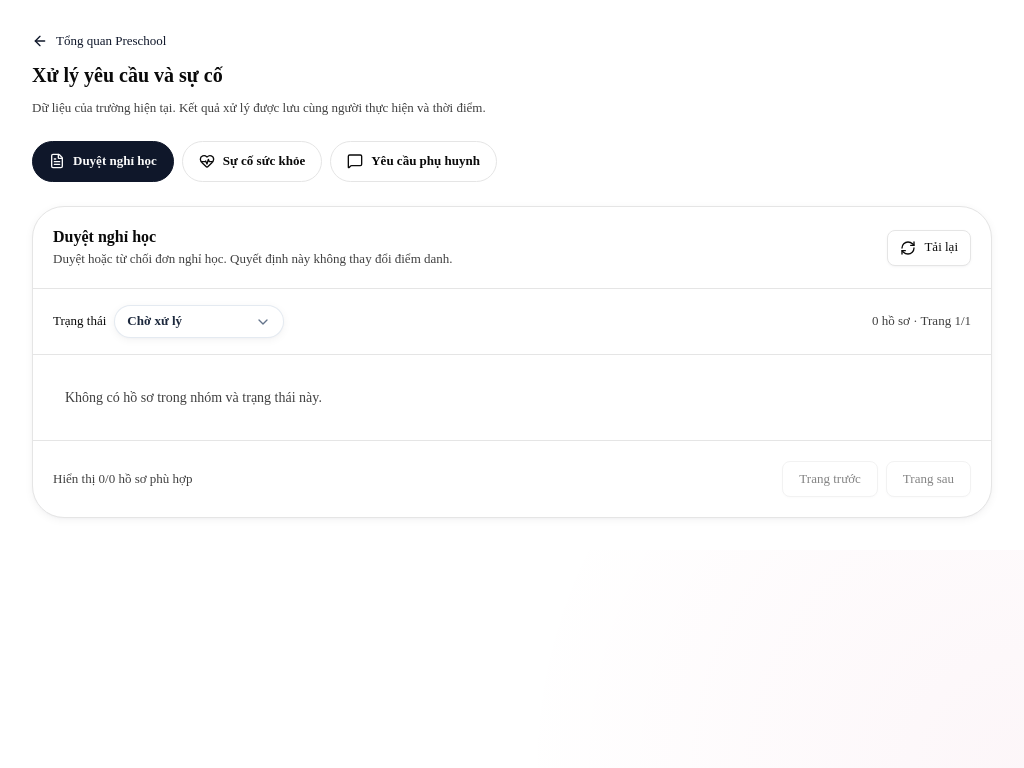
reads the declined outcome from persisted history after a reload, preserving original request
Expected: the text "Không có hồ sơ trong nhóm và trạng thái này." is shown, left=65, top=390, right=322, bottom=405
Select "Lịch sử đã xử lý" in the dropdown named "Trạng thái xử lý" at (169, 322), box left=53, top=305, right=284, bottom=338
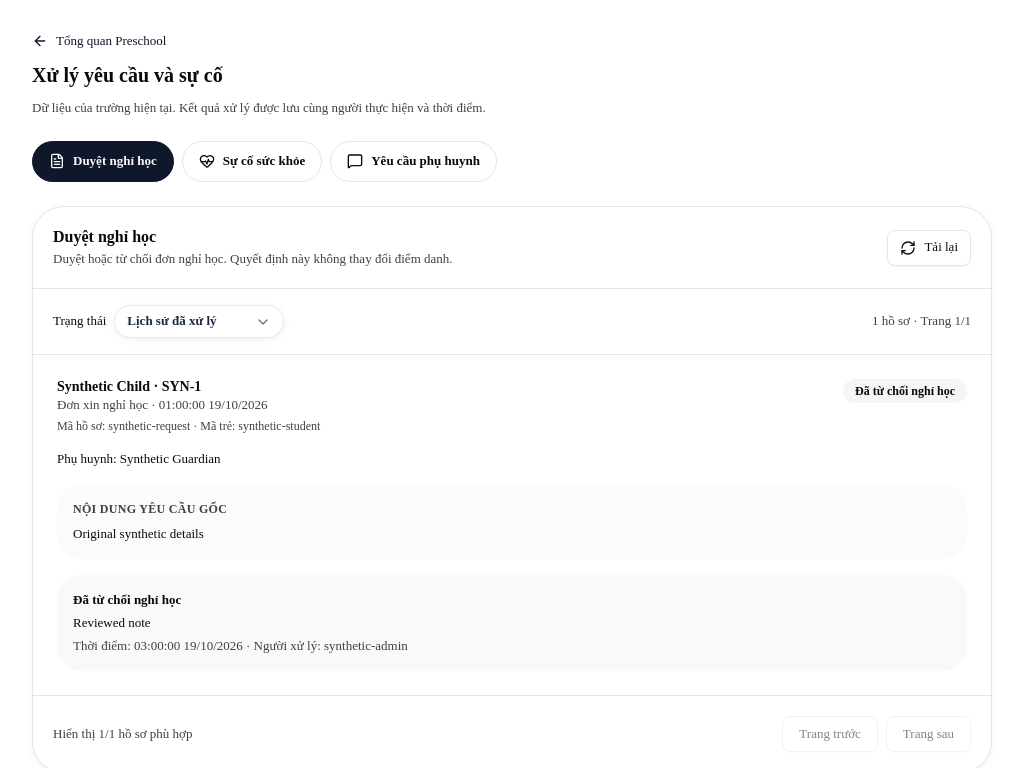
Expected: the text "Original synthetic details" is shown, left=73, top=526, right=204, bottom=541
Expected: the text "Đã từ chối nghỉ học" is shown 2 times, left=843, top=379, right=967, bottom=403; left=73, top=592, right=181, bottom=608
Expected: the text "Reviewed note" is shown, left=73, top=615, right=151, bottom=630
